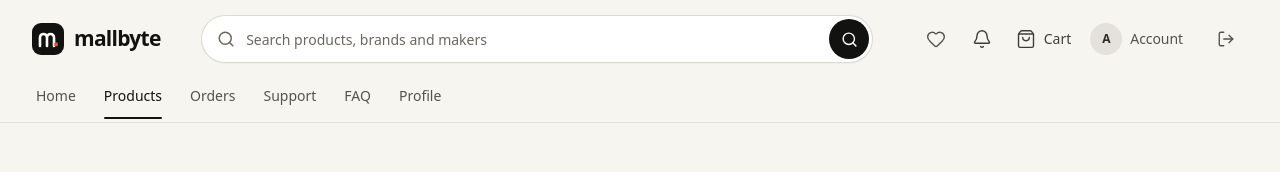
Test: shared marketplace navigation › retains navigation to sign-in and failure feedback when remote logout fails
The width and height of the screenshot is (1280, 172).
Click the button named "Sign out" at (1226, 39), box [1204,17,1248,61]
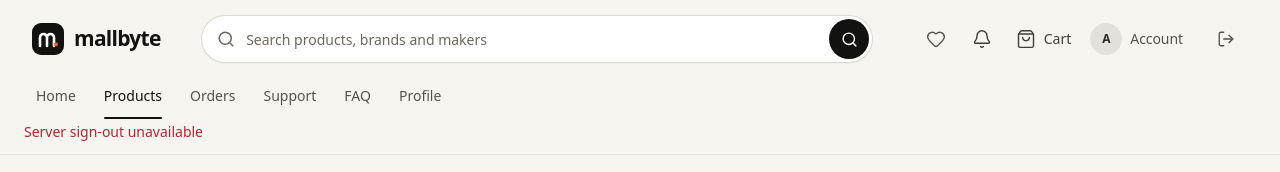
Now the message reads "Server sign-out unavailable", box [24,122,203,141]
